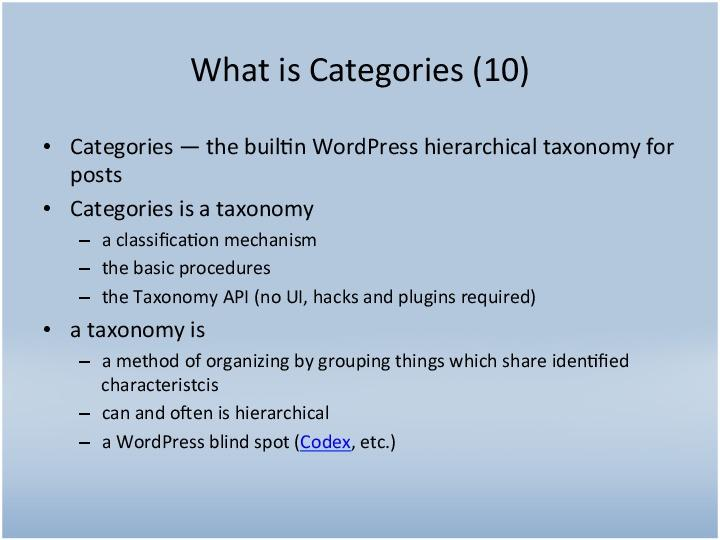paragraph: (30, 122, 702, 488)
title: (179, 33, 555, 110)
